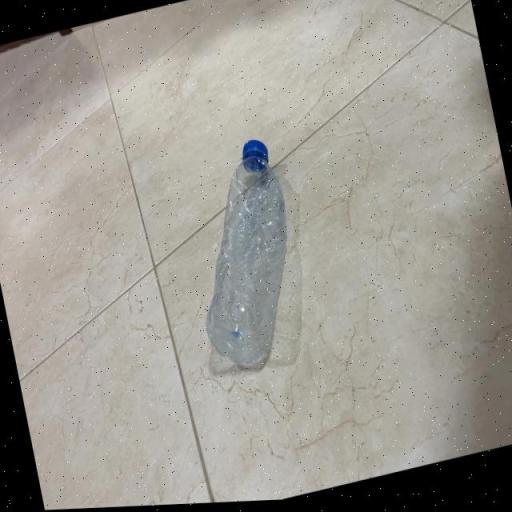plastic: (170, 130, 320, 380)
